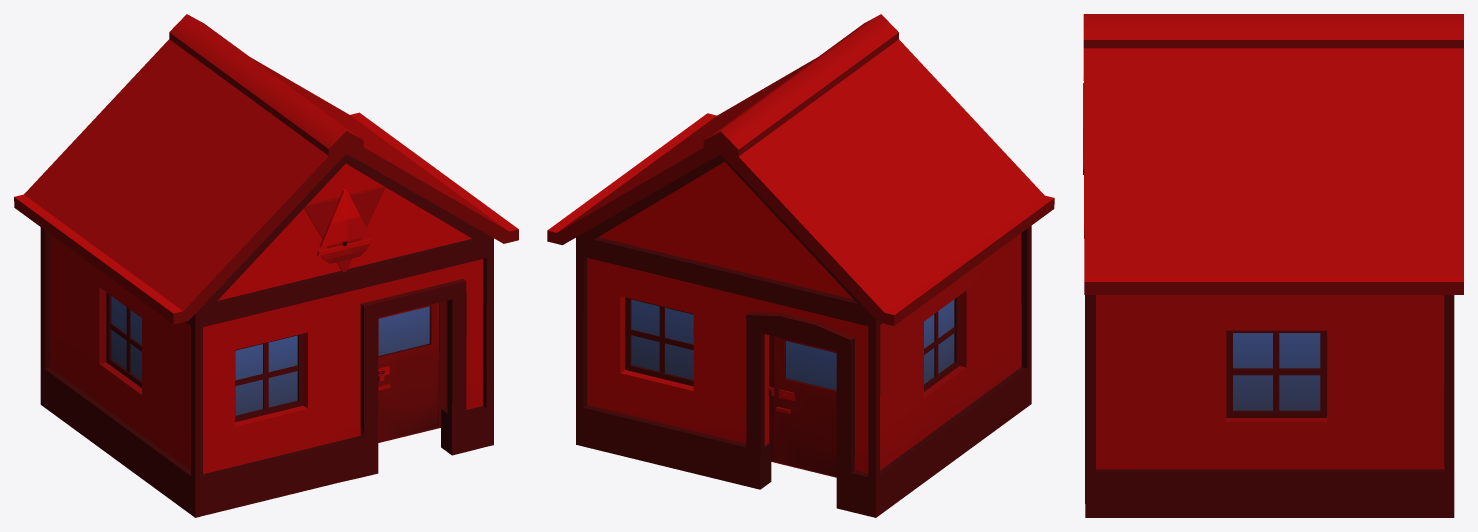
Rendered from buildings-business-boathouse_v1.fbx.
3 renders of one model, left to right at view 1: azimuth 30°, elevation 25°; view 2: azimuth 150°, elevation 25°; view 3: azimuth 270°, elevation 25°, orthographic. The views are drawn at different scales.
Visible parts, largest first — view 1: BoatHouse_base, BoatHouse_windowRefl; view 2: BoatHouse_base, BoatHouse_windowRefl; view 3: BoatHouse_base, BoatHouse_windowRefl.
Boxes of the visible parts, box(x1,y1,x2,y2) form: BoatHouse_base: box(14, 14, 518, 517); BoatHouse_windowRefl: box(111, 296, 429, 415); BoatHouse_base: box(547, 14, 1054, 517); BoatHouse_windowRefl: box(631, 299, 954, 390); BoatHouse_base: box(1083, 14, 1463, 517); BoatHouse_windowRefl: box(1233, 333, 1320, 410).
Bounding box in the file's own units: 8.8 × 8.54 × 7.06.
